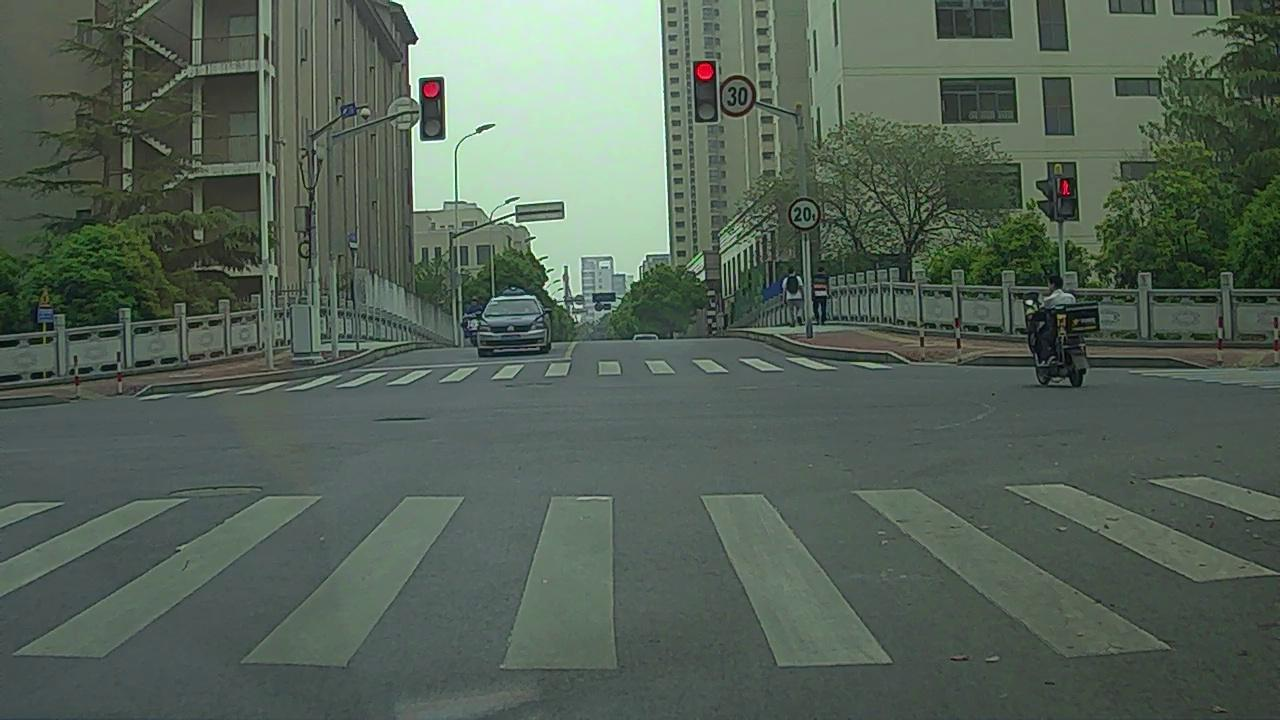traffic_light: (695, 59, 719, 123), (421, 79, 446, 138)
